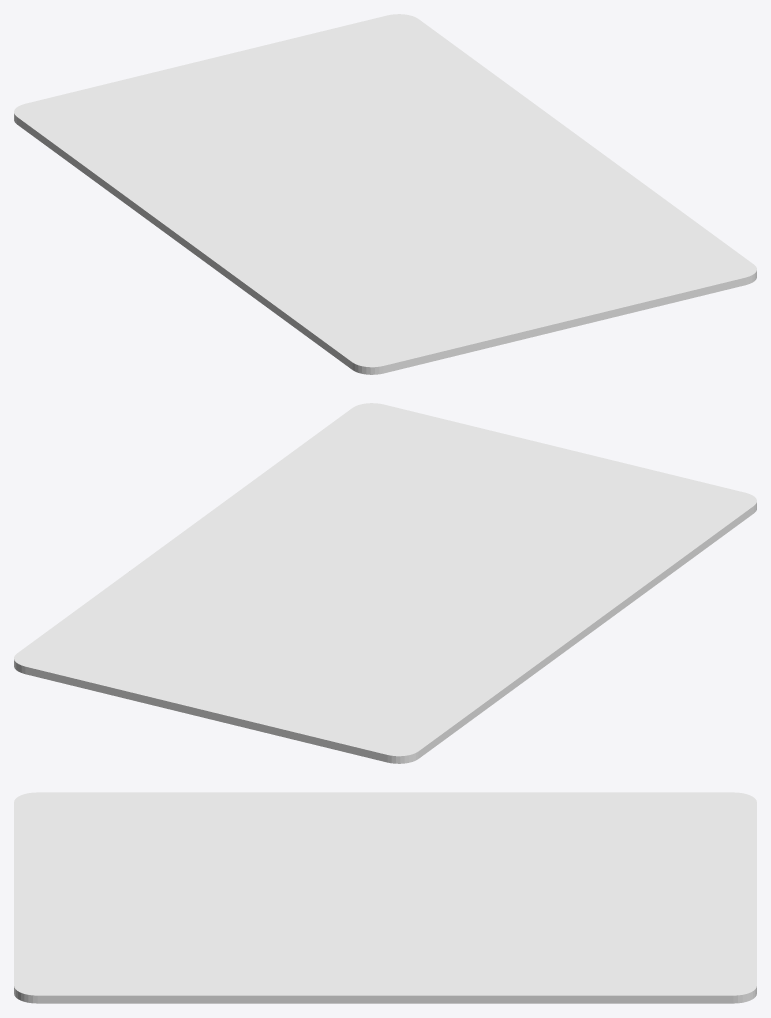
File: card.fbx
The picture shows the model from 3 angles, top to bottom: view 1: azimuth 30°, elevation 25°; view 2: azimuth 150°, elevation 25°; view 3: azimuth 270°, elevation 25°; orthographic projection. The views are drawn at different scales.
Parts seen in each view (by area): view 1: Plane; view 2: Plane; view 3: Plane.
Boxes of the visible parts, x1,y1,x2,y2 form: Plane: [14, 14, 756, 374]; Plane: [14, 403, 756, 763]; Plane: [14, 792, 756, 1003].
Size of the model in its own units: 0.055 by 0.001 by 0.085.
